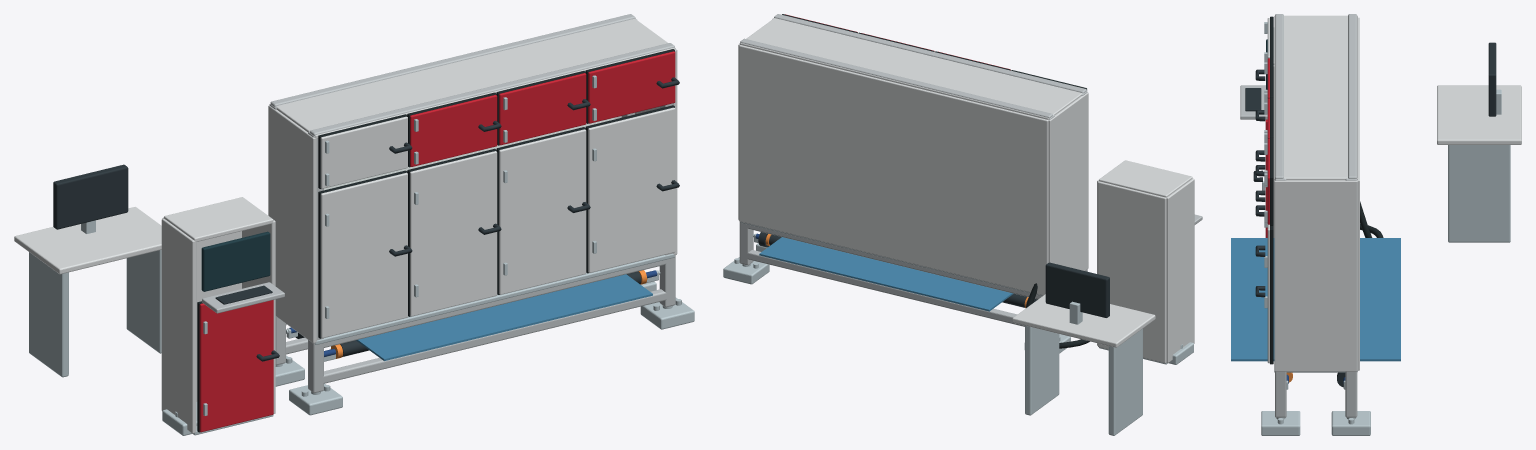
The model's file is inspection.glb.
3 renders of one model, left to right at view 1: azimuth 30°, elevation 25°; view 2: azimuth 150°, elevation 25°; view 3: azimuth 270°, elevation 25°, orthographic. The views are drawn at different scales.
Visible parts, largest first — view 1: f3_case_top, f3_door.004, f3_door, f3_door.006, f3_door.002, f3_case_wall, f3_door.008, fabric_web, f3_case_wall.002, f3_review_table, f3_door.005, f3_door.001 (+22 smaller); view 2: f3_case_rear, f3_case_top, f3_case_rear.001, f3_case_wall, fabric_web, f3_case_wall.002, f3_review_table, f3_frame.010, f3_frame.011, f3_review_pc, f3_frame.005, f3_case_top.001 (+6 smaller); view 3: f3_case_wall.001, f3_case_top, fabric_web, f3_frame.011, f3_review_table, f3_frame.009, f3_frame.008, f3_sole.002, f3_sole.003, f3_case_rear, f3_review_pc, f3_frame.003 (+8 smaller).
Part boxes in pixels (x1,y1,x2,y2): f3_case_top: [276, 18, 674, 138]; f3_door.004: [499, 129, 586, 294]; f3_door: [320, 172, 407, 338]; f3_door.006: [588, 107, 675, 272]; f3_door.002: [410, 151, 497, 316]; f3_case_wall: [268, 105, 316, 343]; f3_door.008: [199, 300, 273, 432]; fabric_web: [356, 274, 652, 360]; f3_case_wall.002: [161, 218, 196, 433]; f3_review_table: [14, 207, 161, 274]; f3_door.005: [499, 73, 586, 145]; f3_door.001: [320, 116, 407, 188]; f3_case_rear: [739, 45, 1048, 295]; f3_case_top: [740, 18, 1082, 119]; f3_case_rear.001: [1098, 181, 1166, 363]; f3_case_wall: [1048, 92, 1088, 270]; fabric_web: [759, 237, 1013, 311]; f3_case_wall.002: [1166, 178, 1194, 362]; f3_review_table: [1012, 294, 1155, 347]; f3_frame.010: [1108, 328, 1142, 435]; f3_frame.011: [1025, 325, 1059, 415]; f3_review_pc: [1045, 262, 1109, 317]; f3_frame.005: [741, 250, 1024, 326]; f3_case_top.001: [1099, 160, 1192, 197]; f3_case_wall.001: [1274, 180, 1357, 371]; f3_case_top: [1274, 15, 1357, 180]; fabric_web: [1231, 238, 1400, 361]; f3_frame.011: [1448, 145, 1510, 242]; f3_review_table: [1437, 85, 1521, 144]; f3_frame.009: [1348, 14, 1357, 178]; f3_frame.008: [1275, 14, 1283, 178]; f3_sole.002: [1261, 411, 1300, 435]; f3_sole.003: [1331, 411, 1370, 435]; f3_case_rear: [1357, 17, 1359, 370]; f3_review_pc: [1488, 42, 1496, 116]; f3_frame.003: [1345, 178, 1357, 417].
Size of the model in its own units: 4.43 by 2.14 by 2.22.
